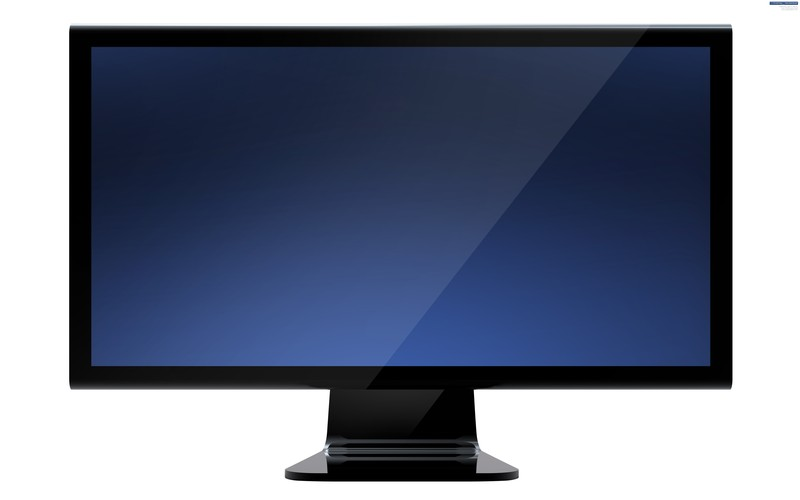LCD: (57, 3, 751, 406)
